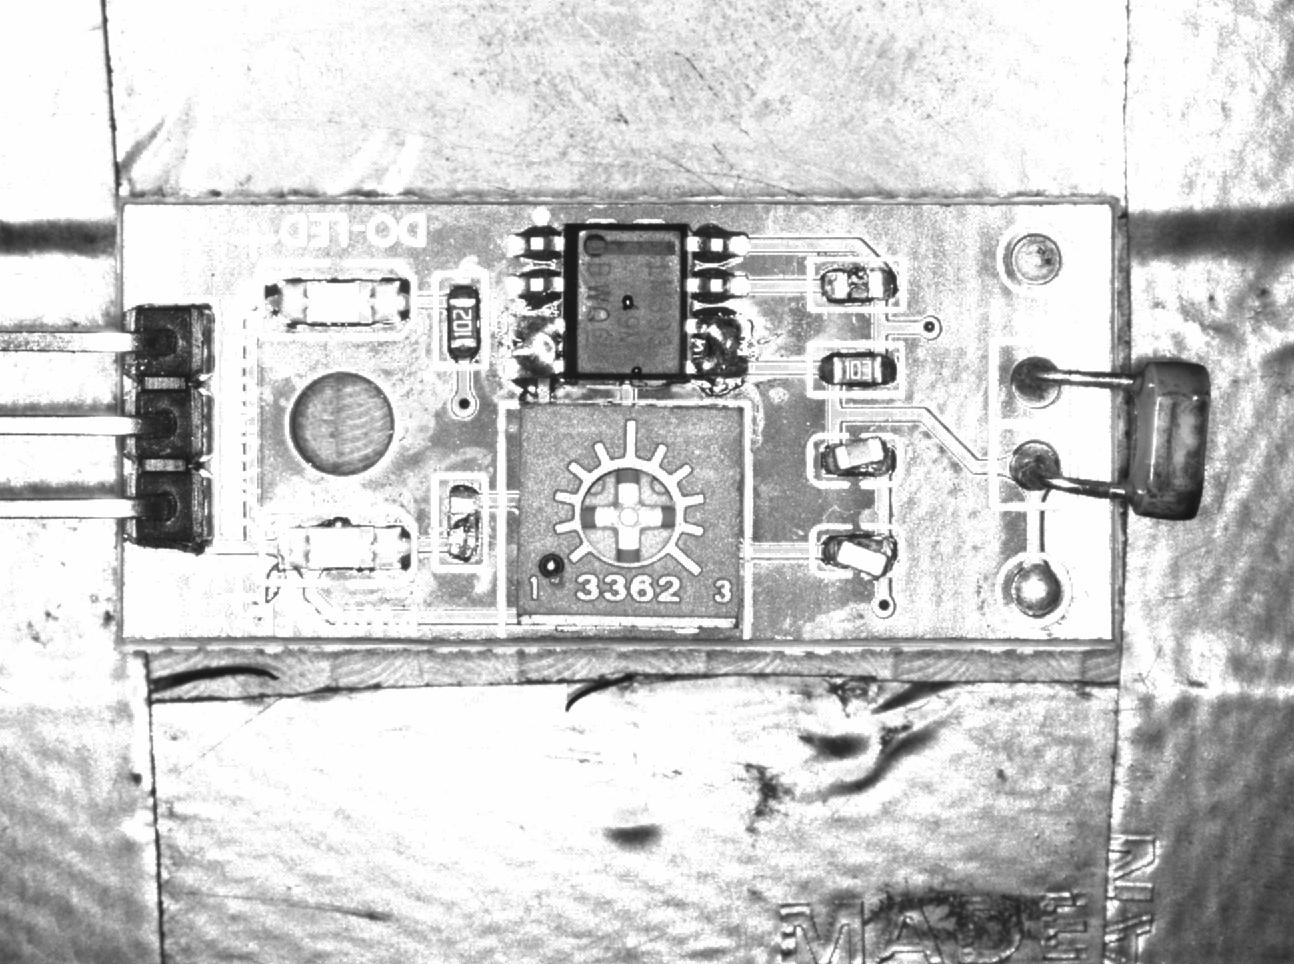bridge: (686, 314, 755, 381), (507, 313, 565, 385)
lifted: (813, 525, 902, 580), (808, 434, 900, 484)
miss: (806, 256, 908, 313), (435, 472, 487, 567)
ok: (810, 343, 906, 397), (435, 270, 487, 367)
